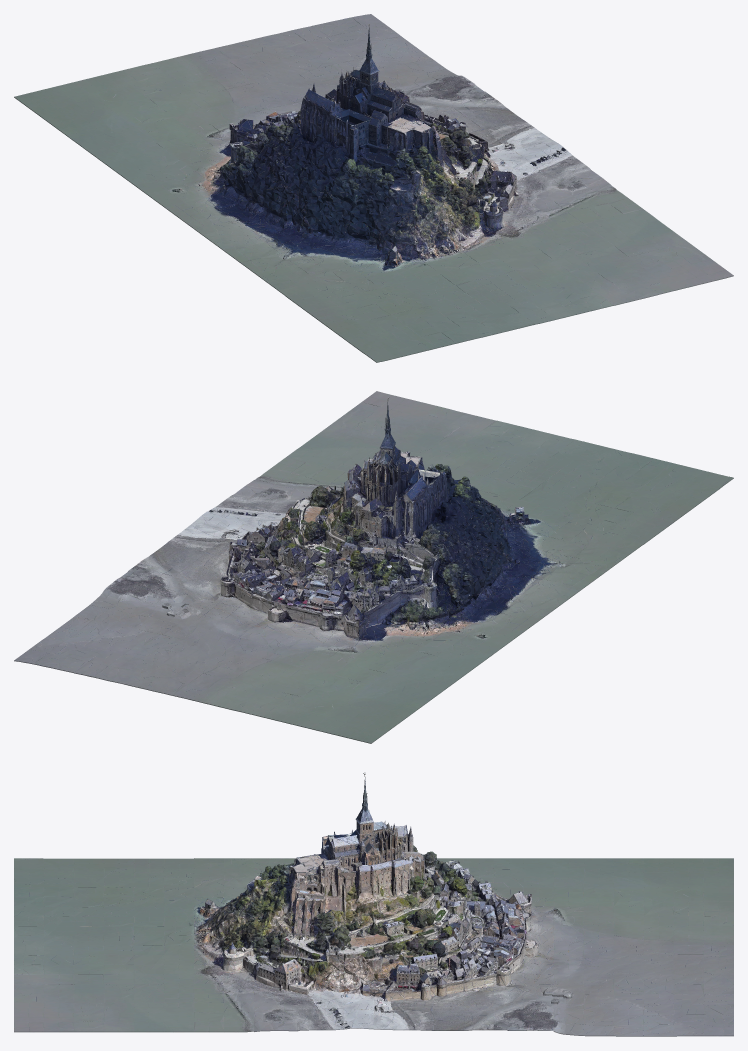
File: montstmichel.glb
3 views of the same model, one above another, from view 1: azimuth 30°, elevation 25°; view 2: azimuth 150°, elevation 25°; view 3: azimuth 270°, elevation 25° (orthographic).
Parts seen in each view (by area): view 1: Object_4; view 2: Object_4; view 3: Object_4.
Boxes of the visible parts, x1=… form: Object_4: x1=14, y1=14, x2=733, y2=362; Object_4: x1=14, y1=391, x2=733, y2=743; Object_4: x1=14, y1=772, x2=733, y2=1036.
Bounding box in the file's own units: 4.41 × 2.06 × 7.75.
Materials: 1 (1 with a texture image).
